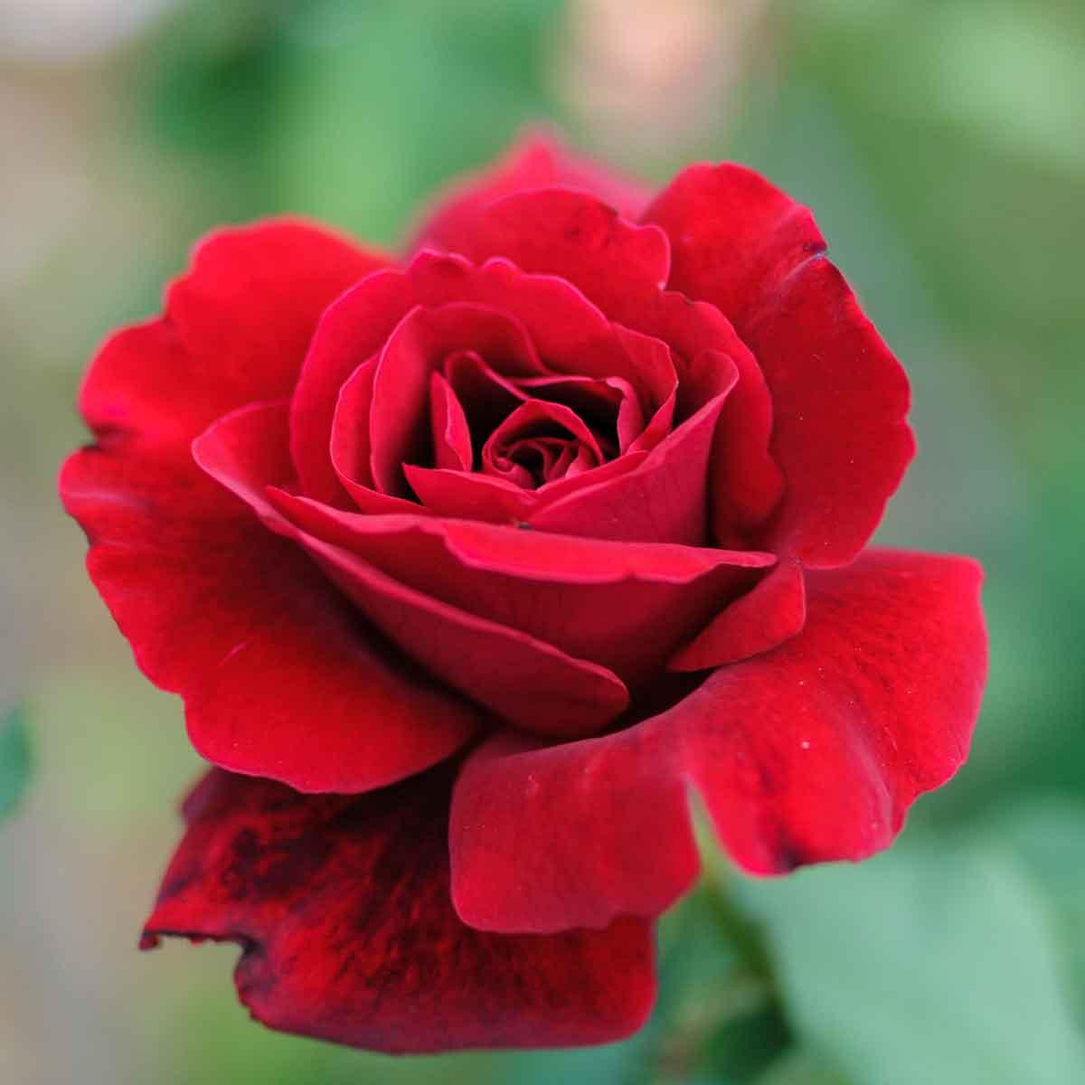rose: (57, 134, 990, 1056)
